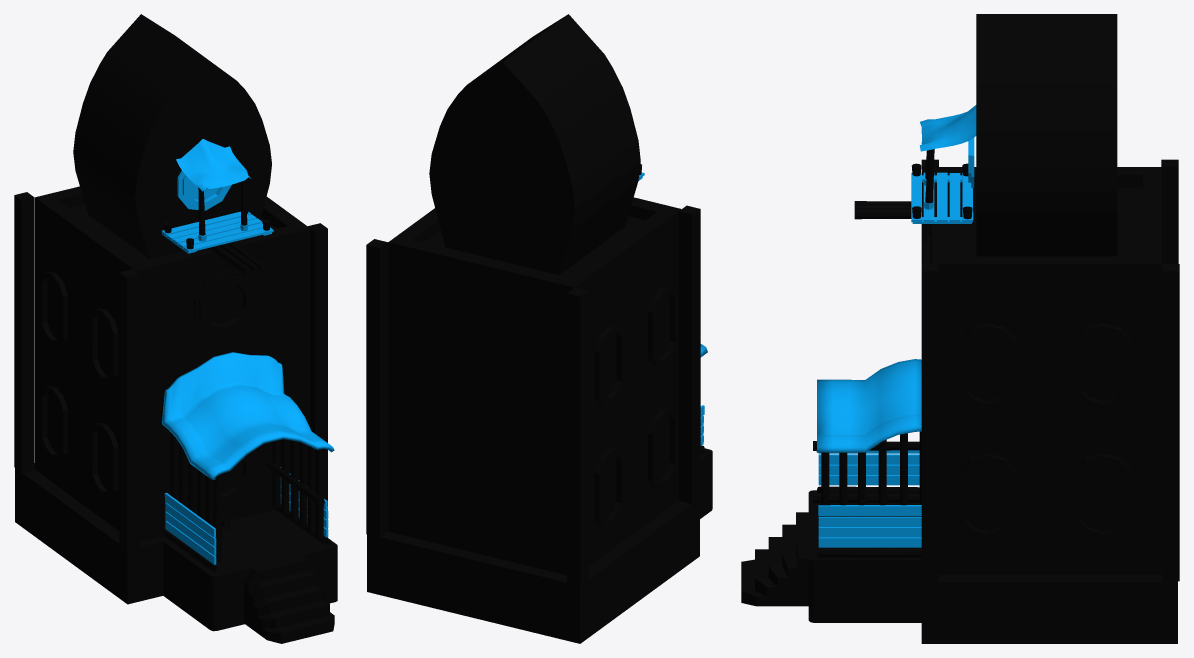
File: VillagerHouse 22m.fbx
The picture shows the model from 3 angles, left to right: view 1: azimuth 30°, elevation 25°; view 2: azimuth 150°, elevation 25°; view 3: azimuth 270°, elevation 25°; orthographic projection. The views are drawn at different scales.
Parts seen in each view (by area): view 1: VillagerHouse 22m; view 2: VillagerHouse 22m; view 3: VillagerHouse 22m.
Boxes of the visible parts, x1=… form: VillagerHouse 22m: x1=14, y1=14, x2=337, y2=643; VillagerHouse 22m: x1=366, y1=14, x2=712, y2=643; VillagerHouse 22m: x1=741, y1=14, x2=1179, y2=643.
Size of the model in its own units: 921 by 2203 by 1524.
